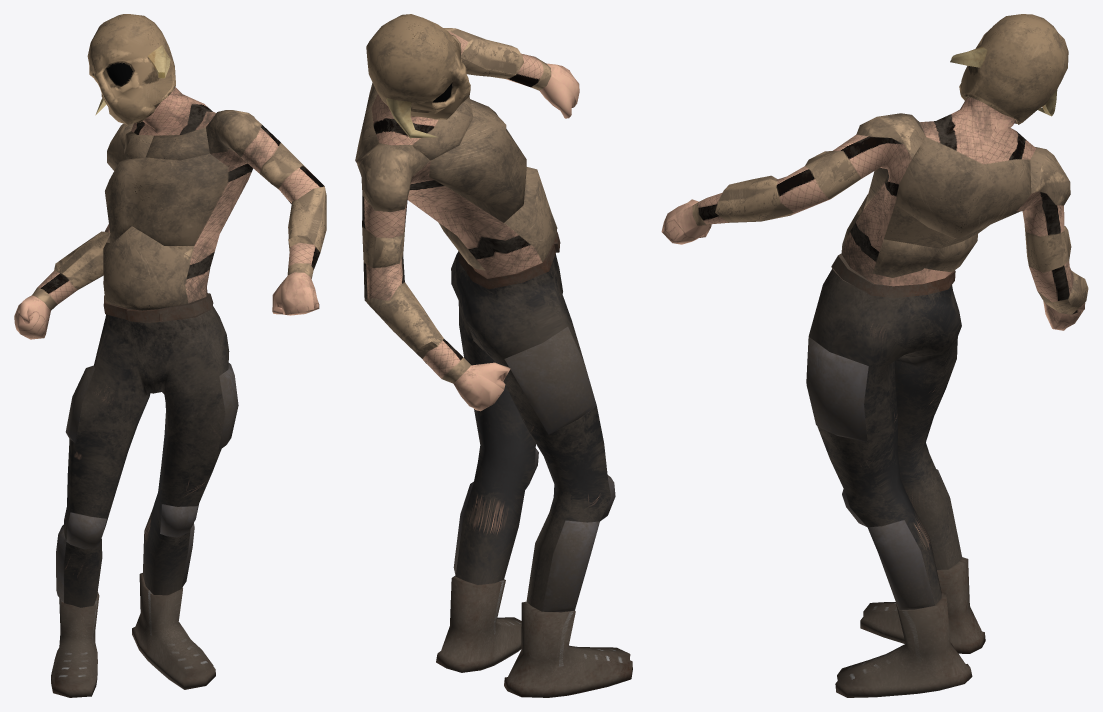
Rendered from Anim_recibirdanyo_npc1.0019.obj.
3 renders of one model, left to right at view 1: azimuth 30°, elevation 25°; view 2: azimuth 150°, elevation 25°; view 3: azimuth 270°, elevation 25°, orthographic. The views are drawn at different scales.
Parts seen in each view (by area): view 1: NPC2; view 2: NPC2; view 3: NPC2.
Part boxes in pixels (left/top/right/bottom): NPC2: left=14, top=14, right=326, bottom=697; NPC2: left=355, top=14, right=632, bottom=697; NPC2: left=661, top=14, right=1088, bottom=697.
Size of the model in its own units: 3.48 by 8.96 by 5.09.
